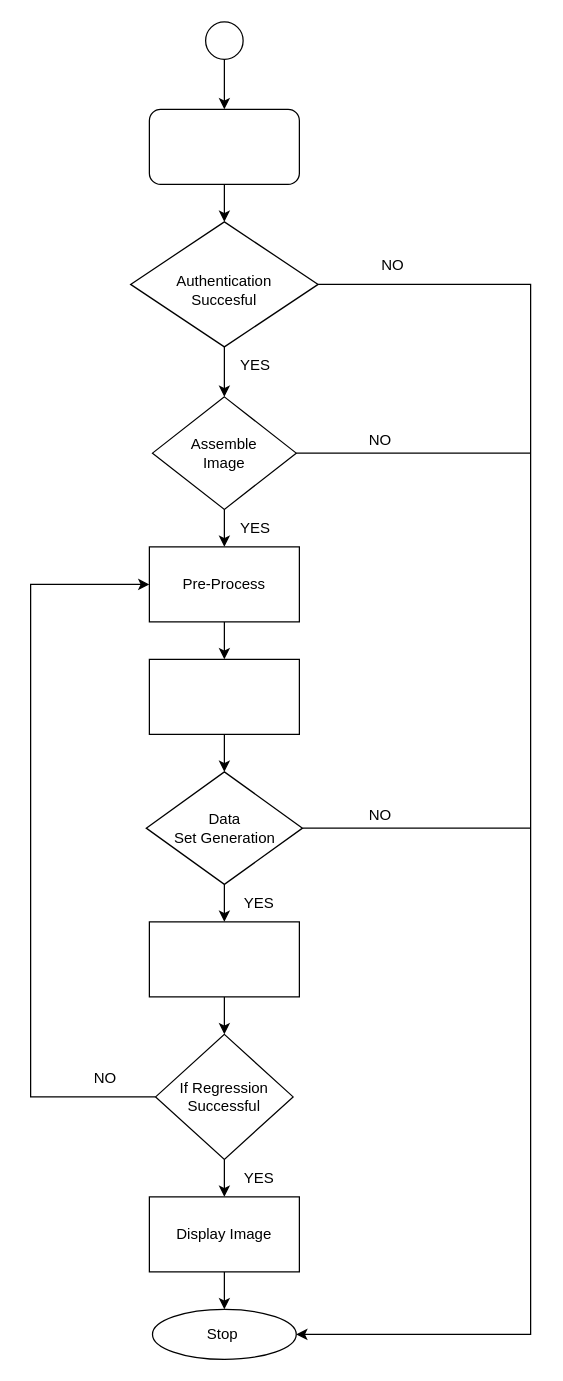
Some shapes in this 563 by 1381 pixel diagram are drawn without their labels. Each missing label, with the centre of its shape:
Apply Regression: (x=223, y=959)
Authentication: (x=223, y=146)
Extract Features: (x=223, y=696)
